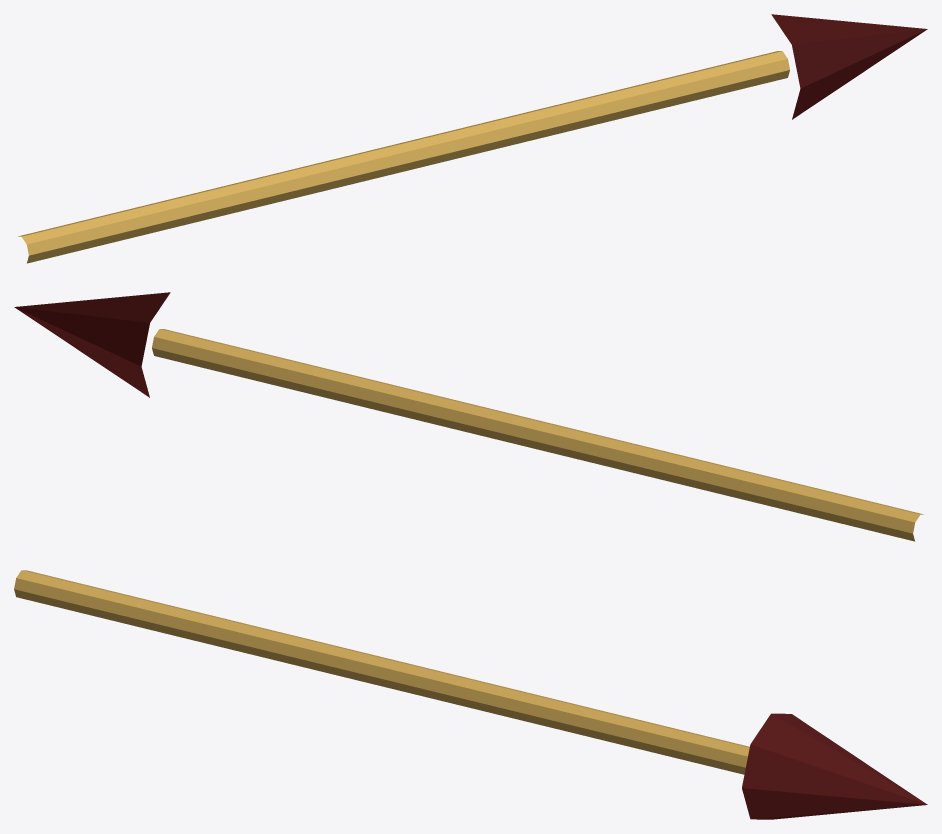
Rendered from mars.glb.
3 views of the same model, one above another, from view 1: azimuth 30°, elevation 25°; view 2: azimuth 150°, elevation 25°; view 3: azimuth 330°, elevation 25° (orthographic).
Visible parts, largest first — view 1: mars-shaft, mars-tip; view 2: mars-shaft, mars-tip; view 3: mars-shaft, mars-tip.
Part boxes in pixels (x1,y1,x2,y2): mars-shaft: (18, 51, 789, 263); mars-tip: (771, 14, 927, 119); mars-shaft: (152, 329, 923, 541); mars-tip: (14, 292, 170, 397); mars-shaft: (14, 570, 749, 774); mars-tip: (742, 713, 927, 819).
Size of the model in its own units: 1.97 by 0.22 by 0.22.
